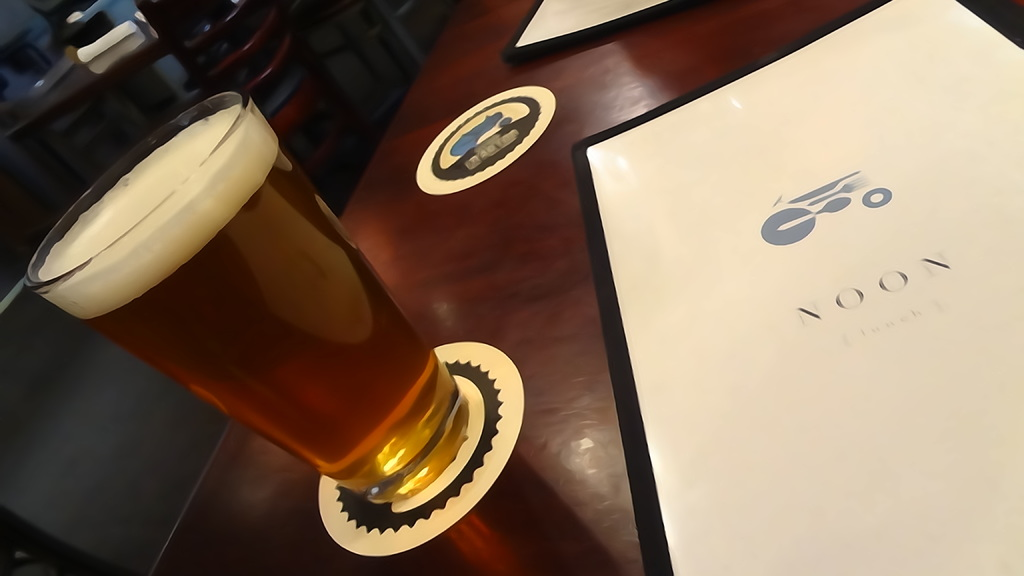Beer: (20, 75, 479, 521)
